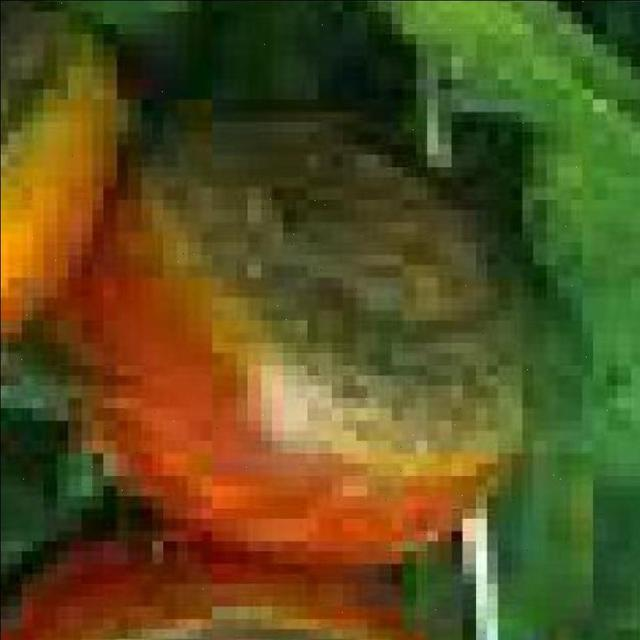Blossom End Rot Fruit: (29, 23, 260, 415)
